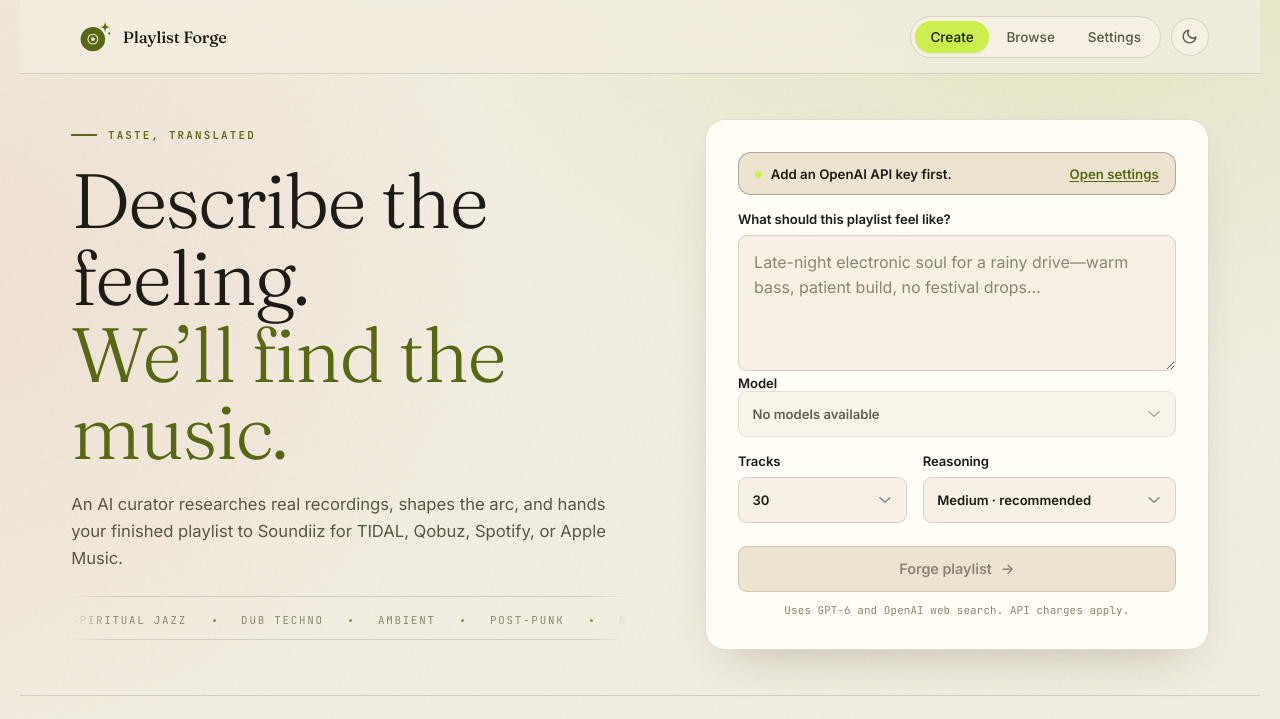
Test: App › removes a disliked song while reviewing its preview
What coordinates should you click on to do the following:
click the button "Browse"
I would click on:
 (1031, 36)
Its box is [991, 20, 1070, 52].
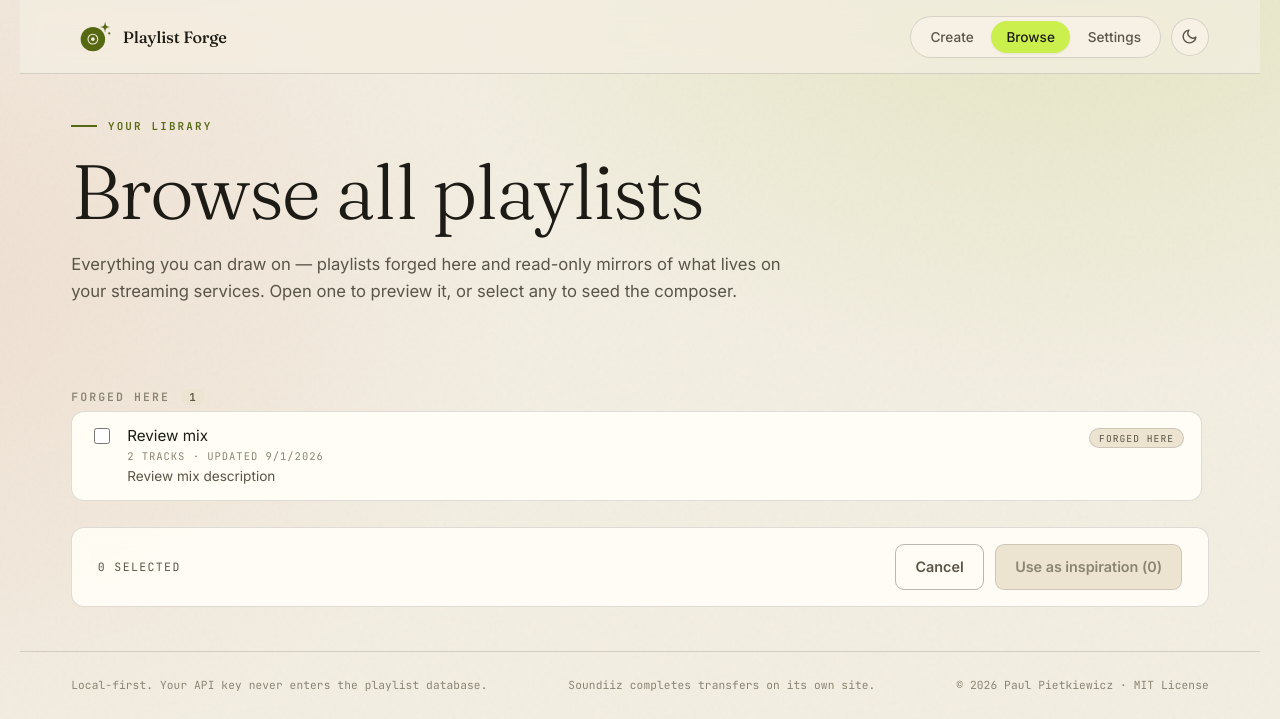
What coordinates should you click on to do the following:
click the button "Review mix"
I would click on:
 (168, 435)
Its box is [127, 426, 1075, 486].
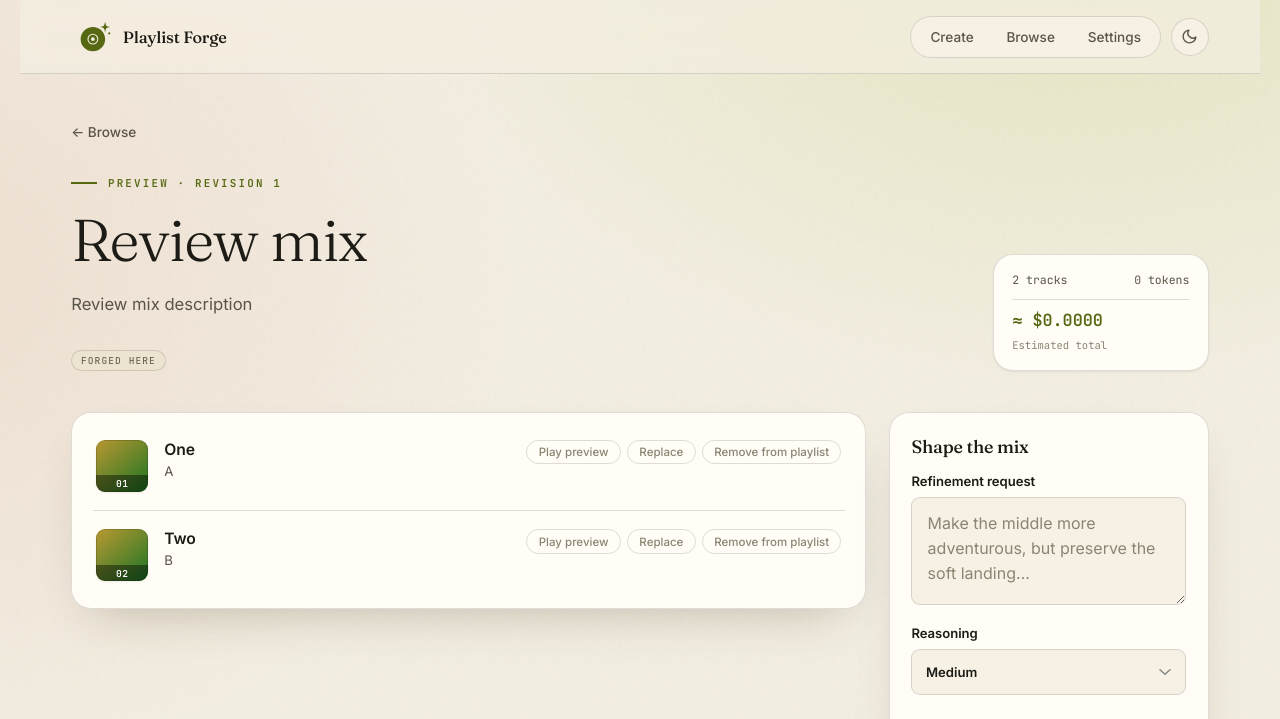
What coordinates should you click on to do the following:
click the button with aria-label "Play preview of One"
I would click on:
 (574, 452)
Its box is [526, 440, 621, 464].
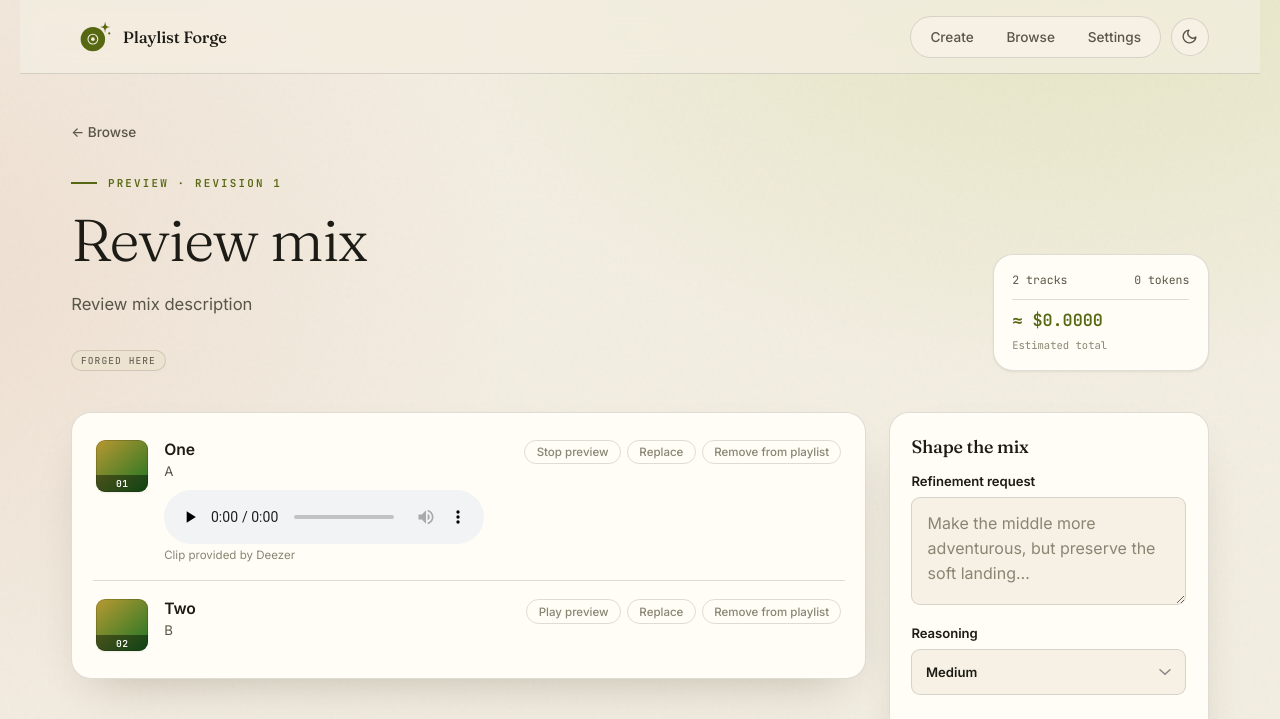
Now the element named "Deezer preview of One" is shown, box [164, 490, 484, 544]
What coordinates should you click on to do the following:
click the button with aria-label "Remove One from playlist"
I would click on:
 (772, 452)
Its box is [702, 440, 842, 464].
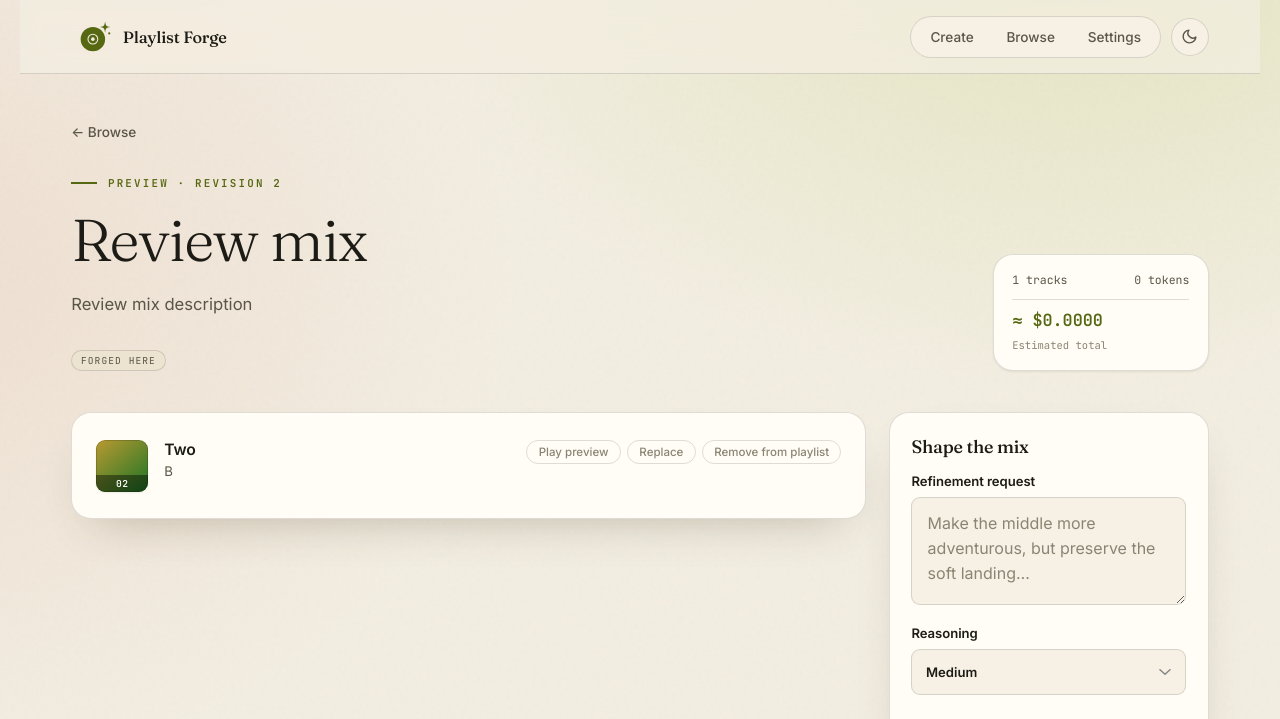
Now the heading "Two" is shown, box [164, 440, 196, 458]
Now the heading "One" is gone
